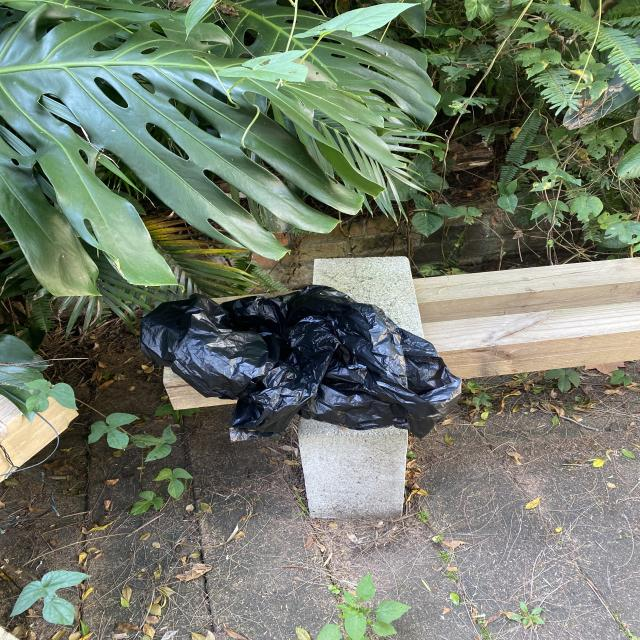bag: (142, 285, 464, 441)
